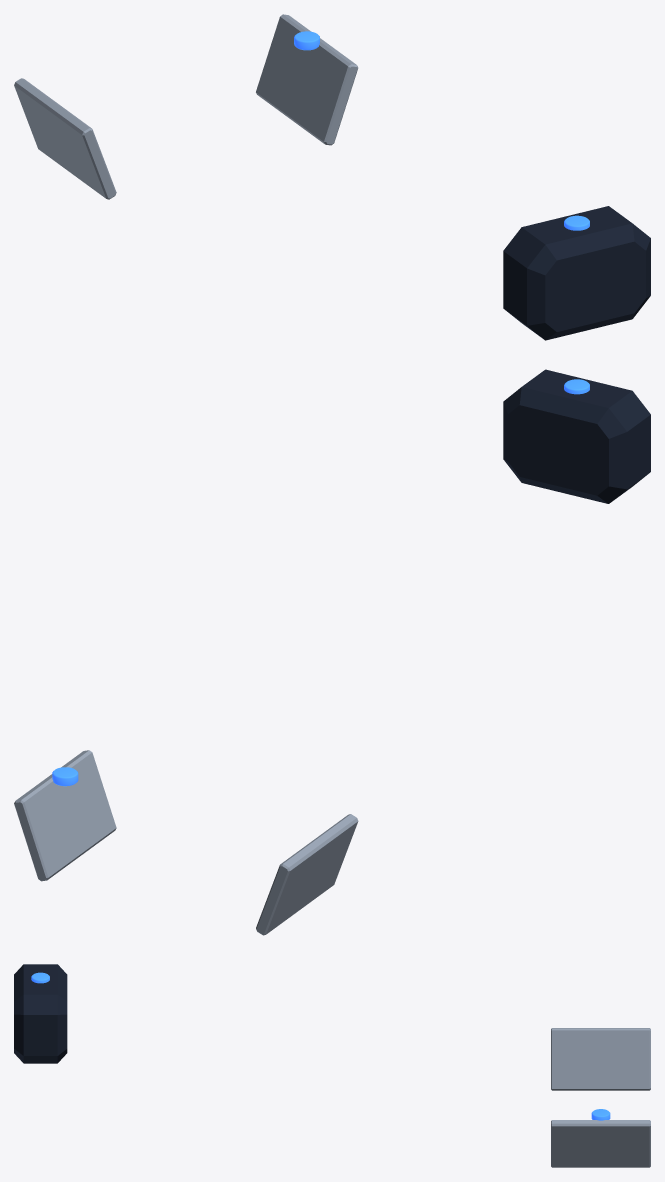
Rendered from tower_lance_range_s3.glb.
3 views of the same model, one above another, from view 1: azimuth 30°, elevation 25°; view 2: azimuth 150°, elevation 25°; view 3: azimuth 270°, elevation 25° (orthographic). The views are drawn at different scales.
Visible parts, largest first — view 1: lance_optic_shade_deep, lance_stab_fin_l, lance_stab_fin_r; view 2: lance_optic_shade_deep, lance_stab_fin_l, lance_stab_fin_r; view 3: lance_stab_fin_r, lance_optic_shade_deep, lance_stab_fin_l.
Part boxes in pixels (box(x1,y1,x2,y2)): lance_optic_shade_deep: box(503, 206, 650, 340); lance_stab_fin_l: box(256, 14, 358, 145); lance_stab_fin_r: box(14, 78, 116, 199); lance_optic_shade_deep: box(503, 369, 650, 503); lance_stab_fin_l: box(14, 750, 116, 881); lance_stab_fin_r: box(256, 814, 358, 935); lance_stab_fin_r: box(551, 1028, 650, 1090); lance_optic_shade_deep: box(14, 964, 67, 1063); lance_stab_fin_l: box(551, 1120, 650, 1167).
Bounding box in the file's own units: 0.6857 × 0.5055 × 1.91.
